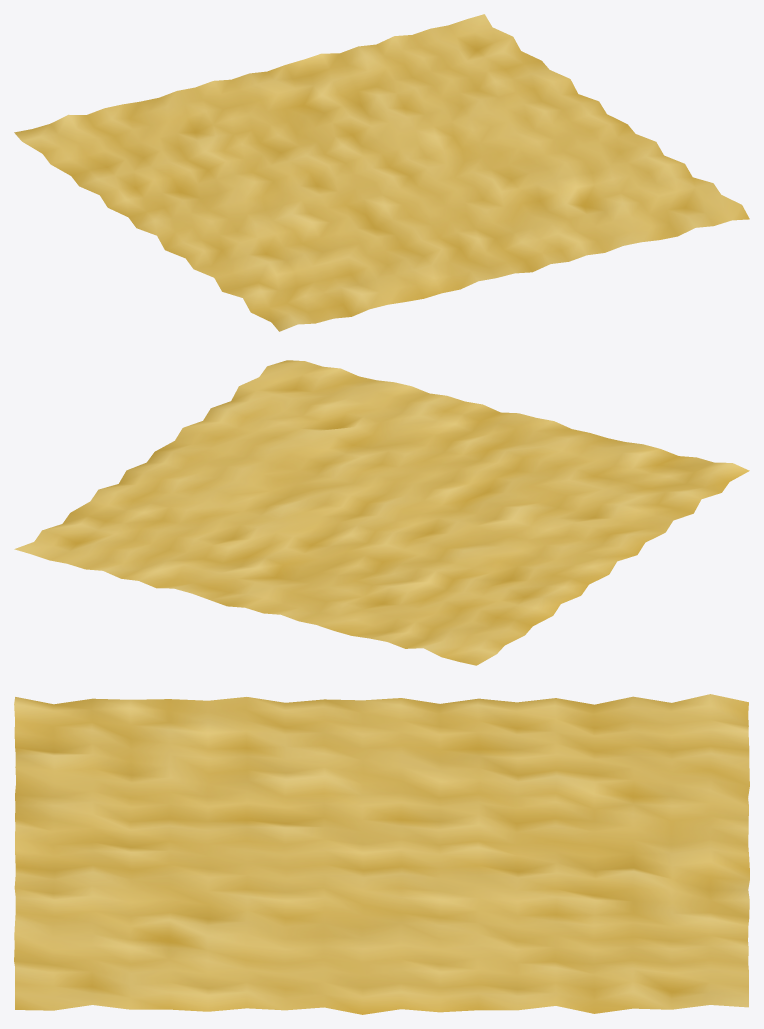
Rendered from Sand.FBX.
3 renders of one model, top to bottom at view 1: azimuth 30°, elevation 25°; view 2: azimuth 150°, elevation 25°; view 3: azimuth 270°, elevation 25°, orthographic. The views are drawn at different scales.
Parts seen in each view (by area): view 1: Sand; view 2: Sand; view 3: Sand.
Boxes of the visible parts, bbox=[...] form: Sand: bbox=[14, 14, 749, 331]; Sand: bbox=[14, 360, 749, 665]; Sand: bbox=[14, 694, 749, 1014].
Bounding box in the file's own units: 1902 × 29.5 × 1881.
